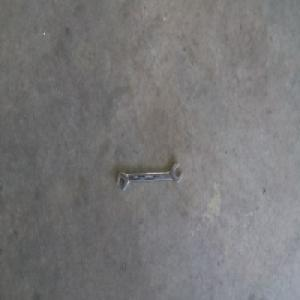Wrench: (115, 161, 182, 189)
